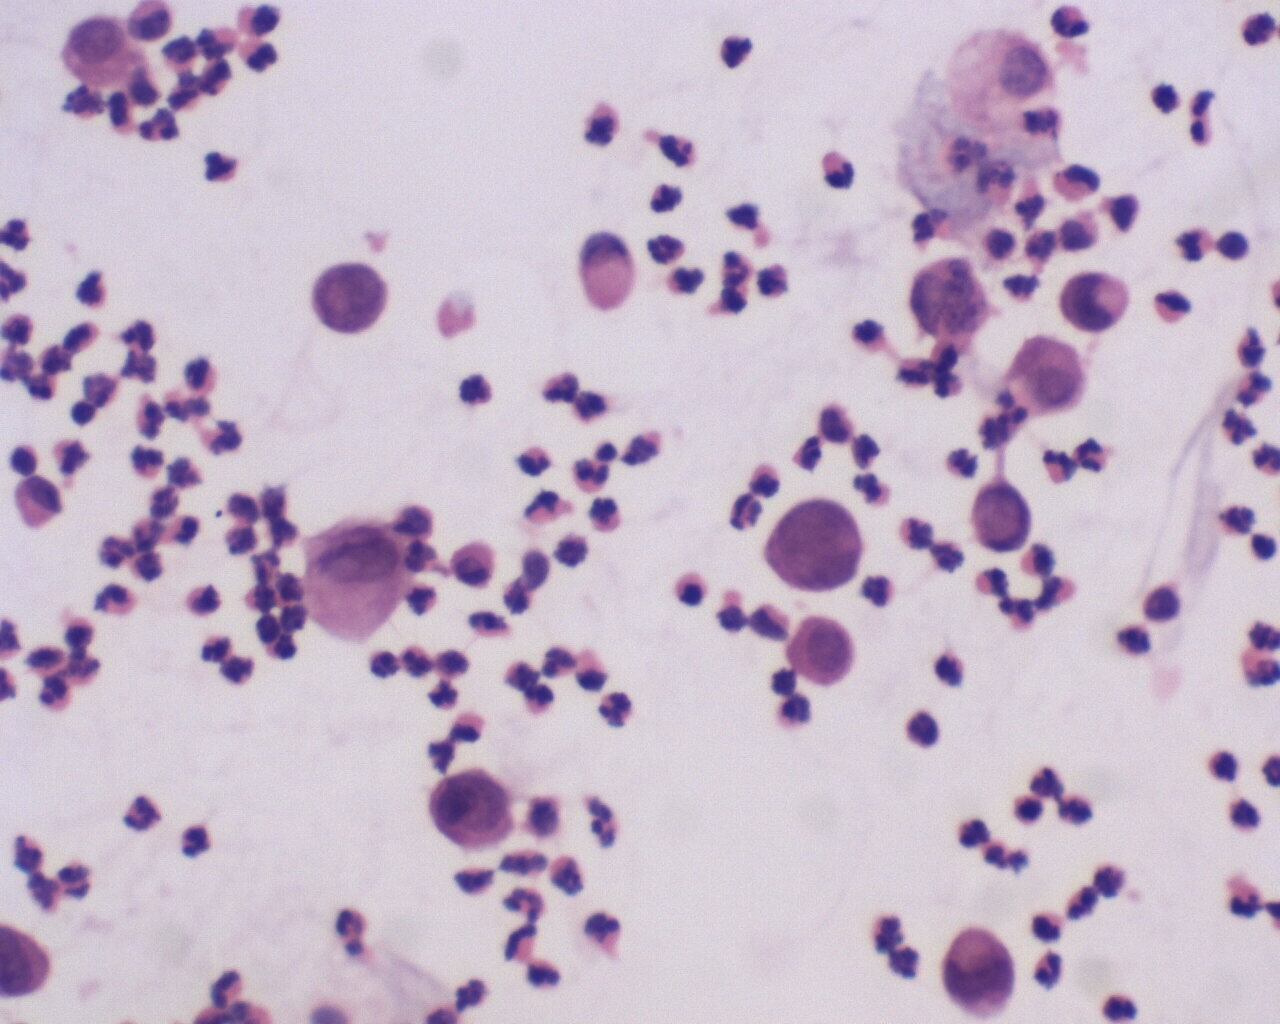ab: (764, 496, 866, 602), (425, 764, 521, 862), (933, 920, 1020, 1024), (785, 607, 863, 693), (309, 259, 395, 335), (1057, 266, 1135, 339)
lymph: (7, 438, 47, 481)
meso: (53, 11, 150, 94)
neutro: (130, 106, 188, 147), (1147, 283, 1197, 329), (1171, 219, 1217, 266), (655, 127, 703, 169), (1044, 3, 1094, 43), (1071, 433, 1117, 475), (643, 230, 693, 267), (597, 686, 639, 729), (498, 884, 549, 921), (574, 453, 616, 495), (117, 795, 161, 836), (725, 492, 769, 532), (1026, 948, 1067, 990), (1225, 878, 1263, 922), (1039, 448, 1076, 489), (176, 821, 217, 858), (126, 442, 169, 478), (199, 632, 238, 668), (518, 442, 553, 479)
